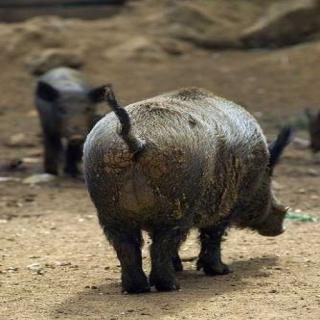Pig: (60, 51, 312, 301)
